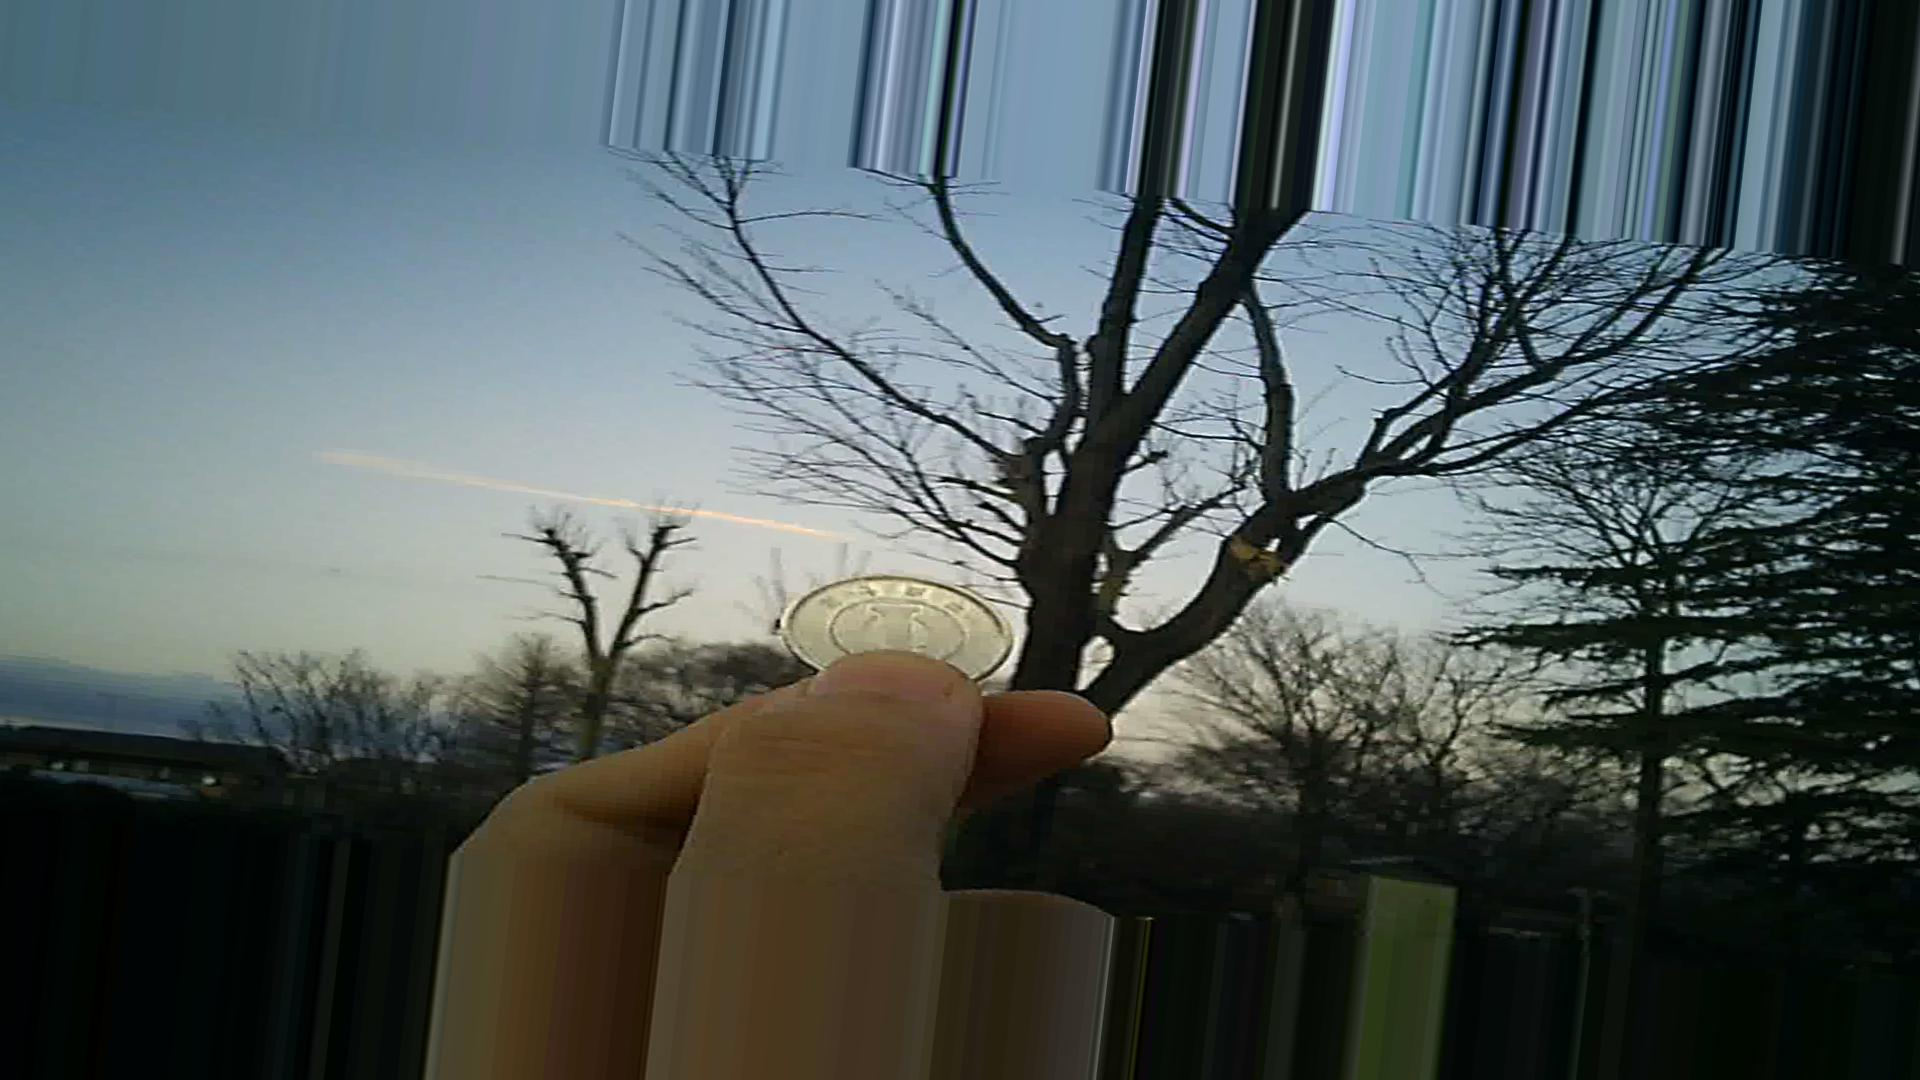1 Yen: (766, 576, 1025, 699)
